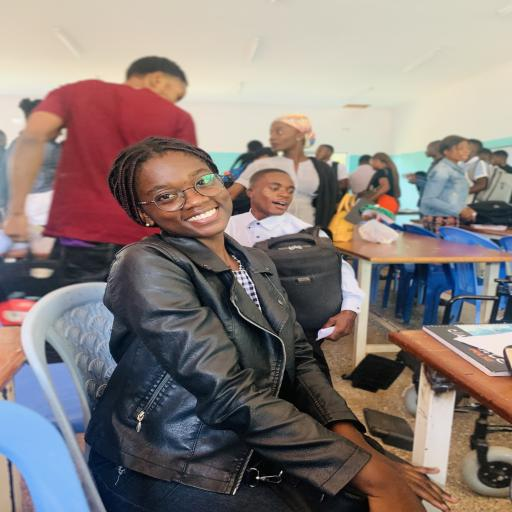LAURENE: (119, 145, 242, 244)
